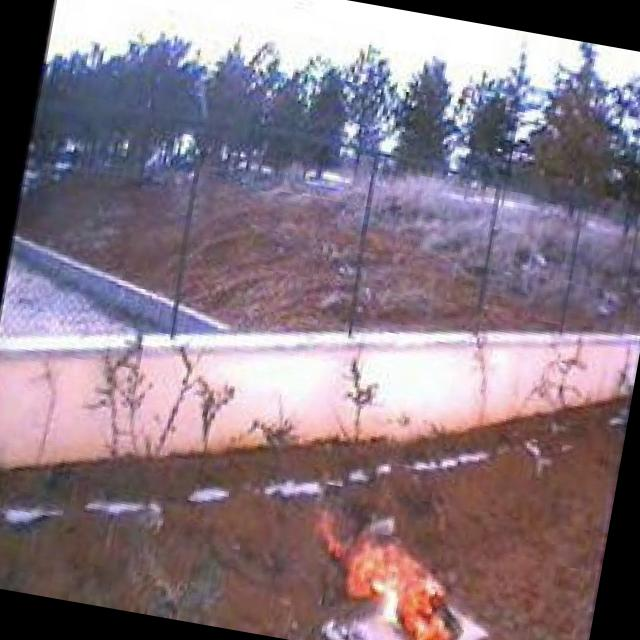Fire: (298, 506, 488, 640)
